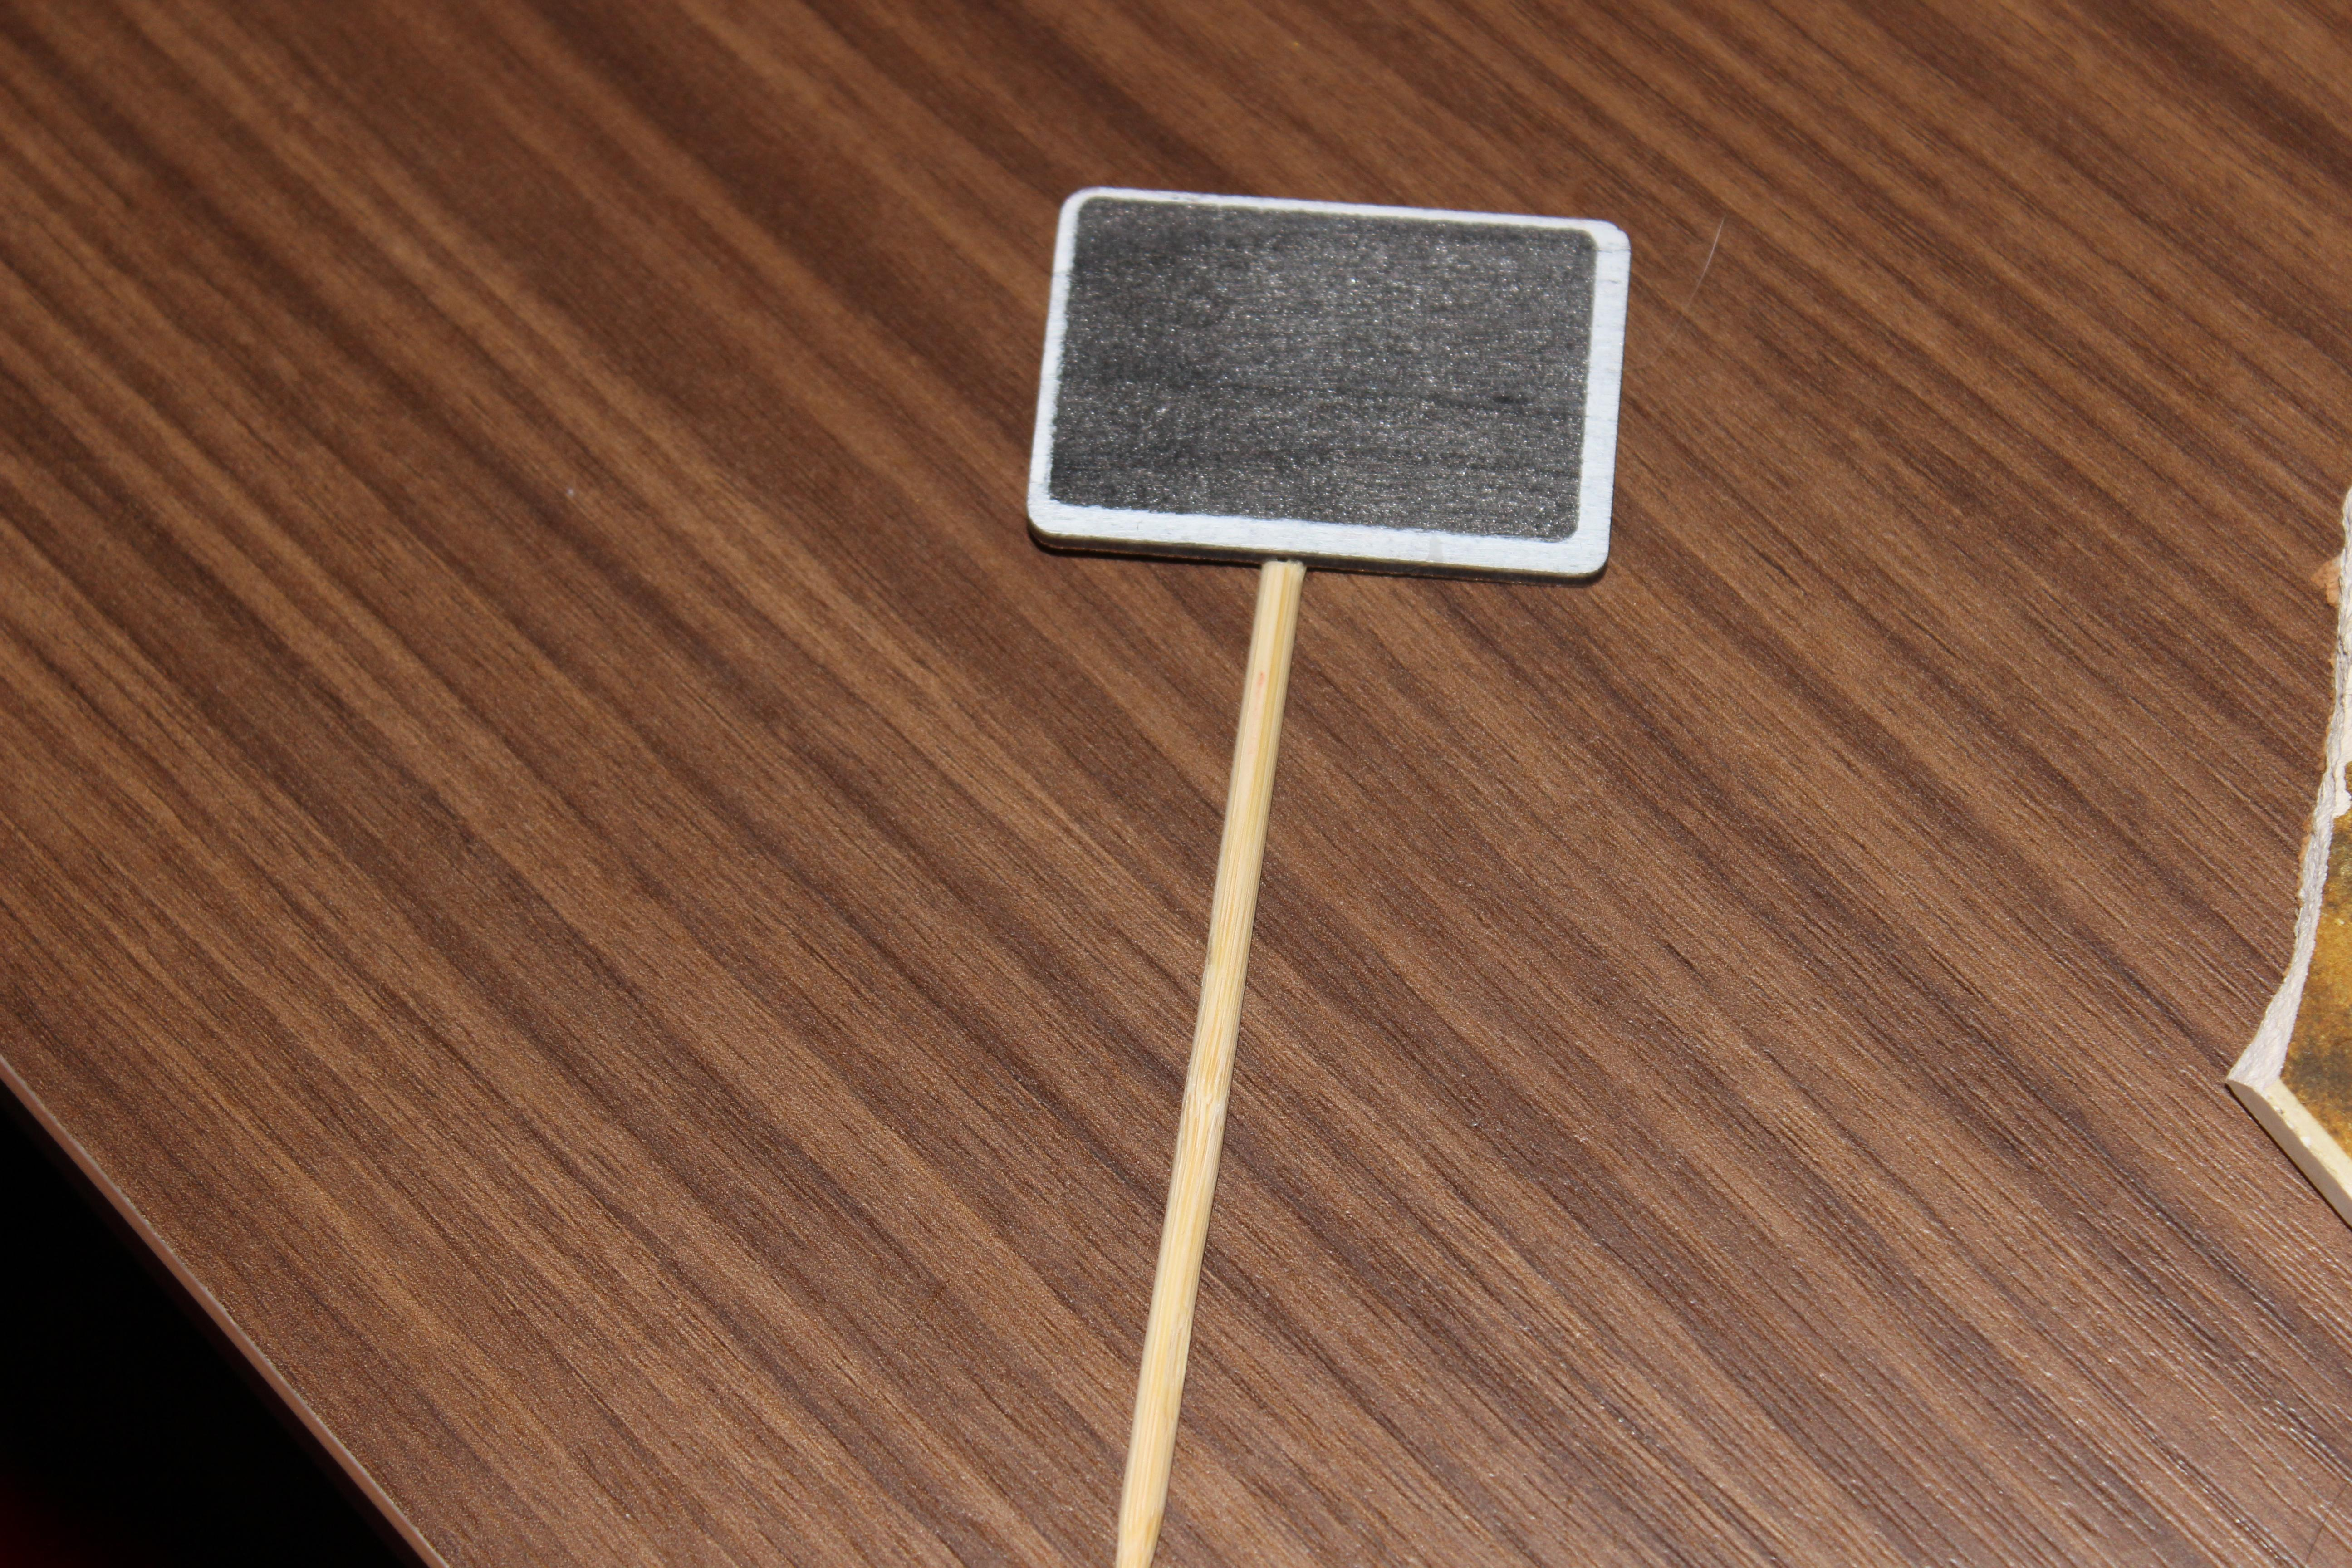sign: (1001, 163, 1680, 1568)
